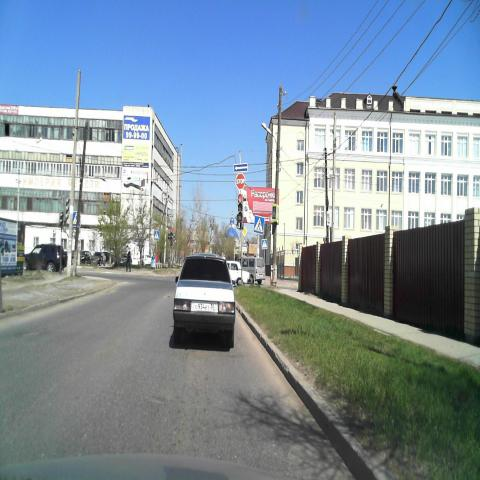5_7_2: (234, 162, 248, 172)
